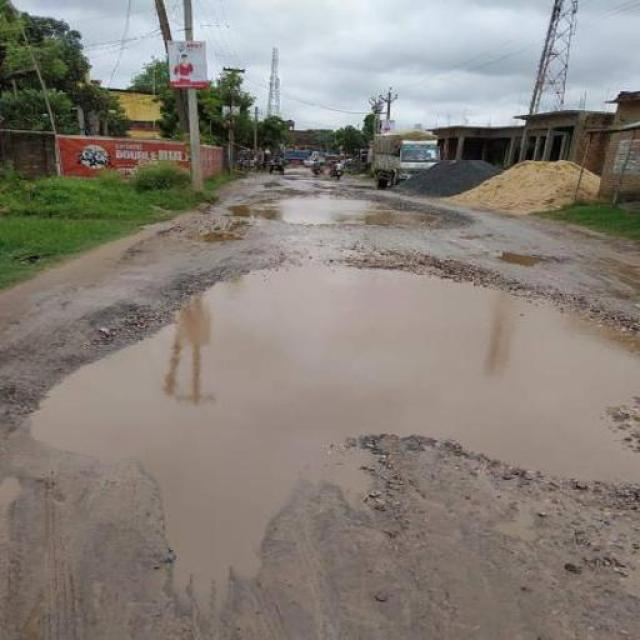puddle: (180, 272, 635, 476), (50, 361, 238, 498), (256, 187, 438, 228)
